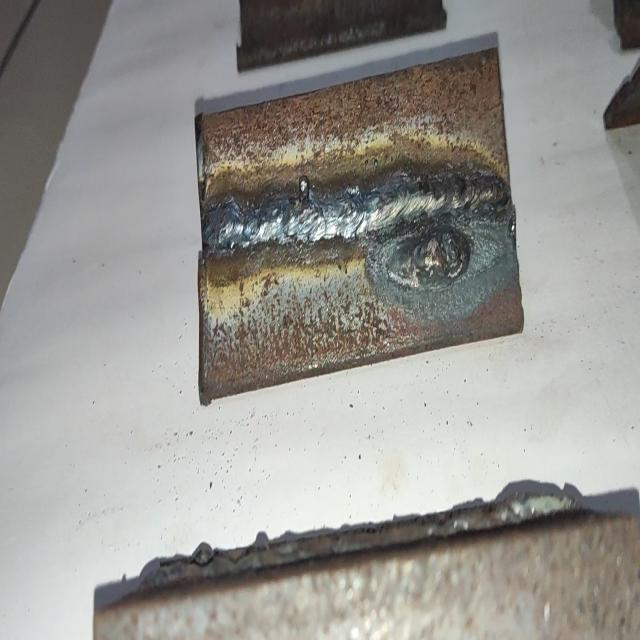Defect: (380, 139, 486, 304), (287, 166, 321, 206)
Welding Line: (205, 164, 506, 239)
Workpiece: (192, 47, 509, 401)
